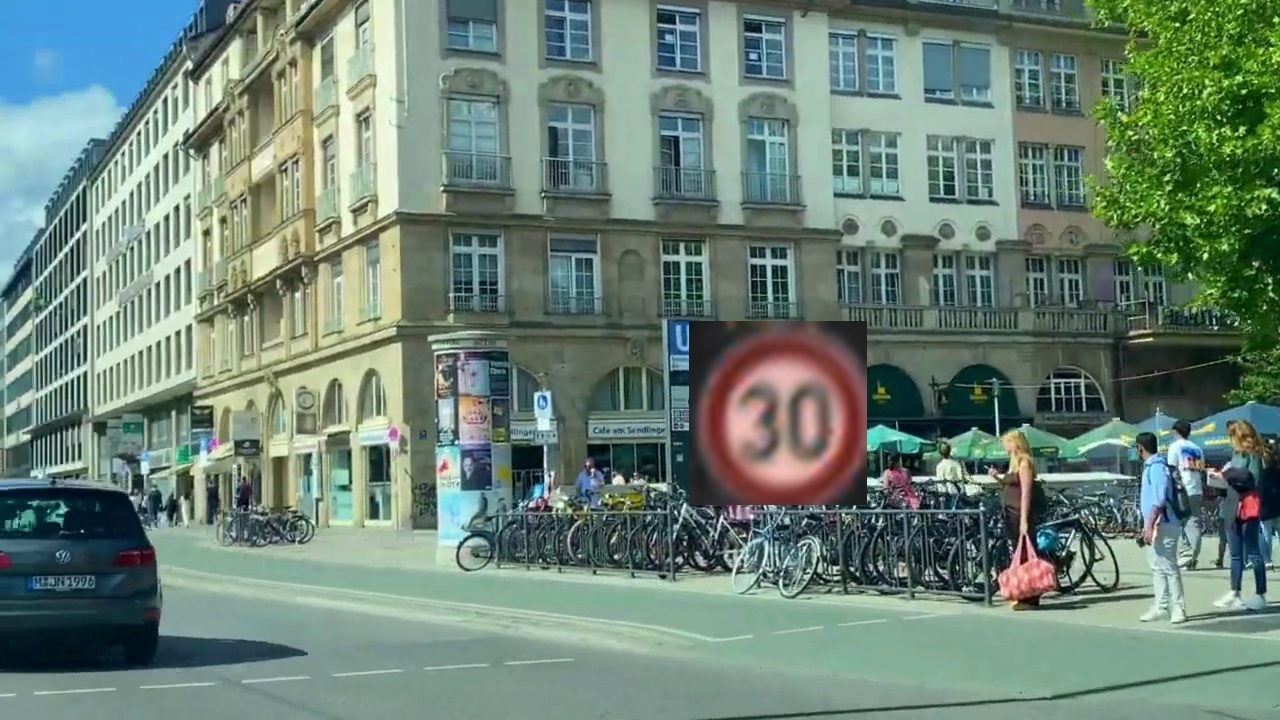Speed 30: (689, 321, 867, 505)
